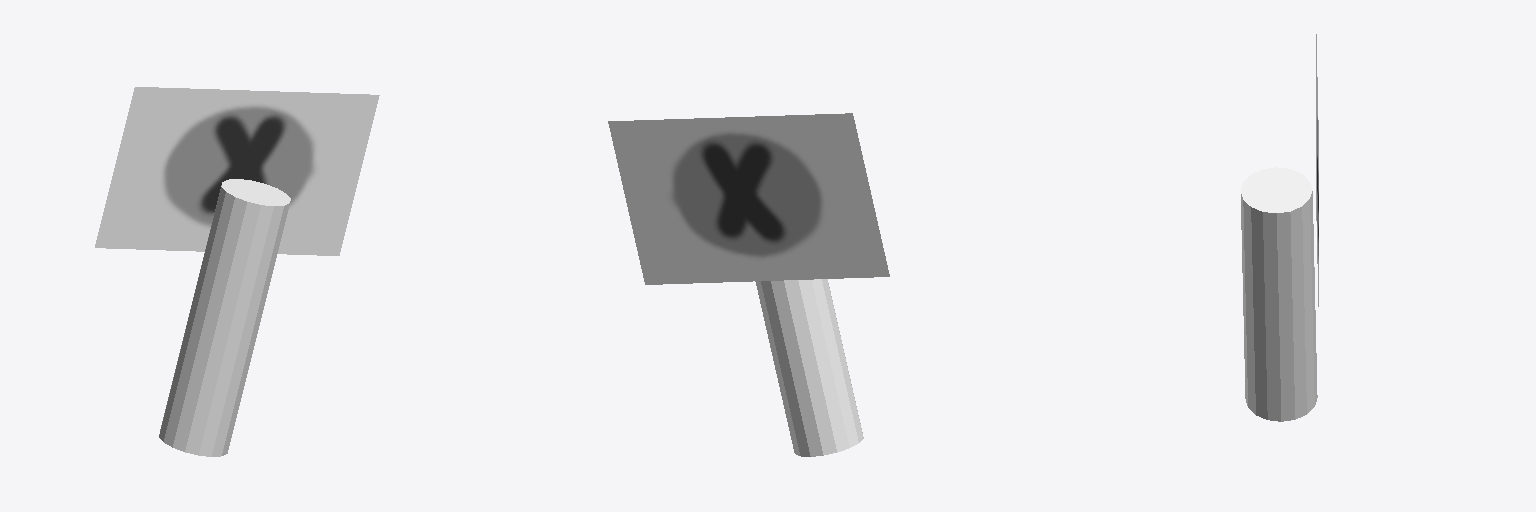
3 views of the same model, side by side, from view 1: azimuth 30°, elevation 25°; view 2: azimuth 150°, elevation 25°; view 3: azimuth 270°, elevation 25° (orthographic).
Visible parts, largest first — view 1: Cylinder; view 2: Cylinder; view 3: Cylinder.
Part boxes in pixels (left/top/right/bottom): Cylinder: left=95, top=87, right=379, bottom=456; Cylinder: left=608, top=113, right=889, bottom=456; Cylinder: left=1241, top=34, right=1318, bottom=421.
Size of the model in its own units: 1.37 by 1.68 by 0.3306.
1 materials, 1 textured.